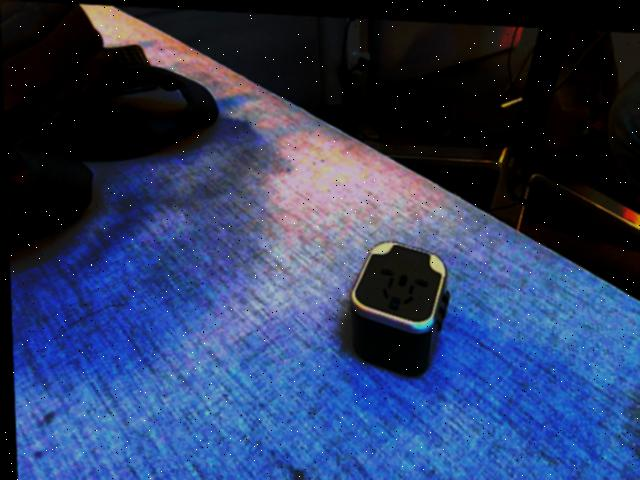adapter: (345, 233, 450, 372)
